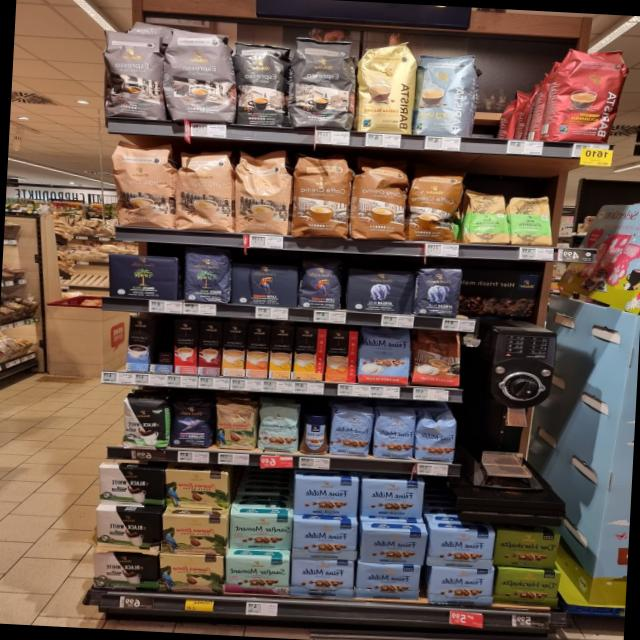AB Bohne: (414, 265, 463, 317)
AB Gemahlen: (346, 270, 416, 314)
Athiopien Gemahlen: (465, 188, 510, 246), (508, 192, 554, 247)
BM Bohne: (106, 252, 180, 300), (181, 250, 231, 304)
BW Bohne: (121, 397, 167, 451)
BW Gemahlen: (96, 465, 166, 508), (91, 548, 159, 592), (94, 508, 162, 551)
Barista CB: (354, 38, 418, 136)
Barista CC: (413, 50, 480, 138)
Barista Kolumbien: (546, 41, 632, 146)
C Fino Bohne: (168, 397, 214, 449)
CC Mild: (108, 138, 176, 228), (172, 145, 235, 233), (234, 147, 294, 236)
CC Vollmundig: (411, 329, 463, 387)
CC Vollmundig 36 Pads: (290, 152, 352, 240), (351, 156, 412, 242), (406, 163, 468, 244)
Colombia BB Bohne: (214, 402, 258, 451)
Colombia BB Gemahlen: (158, 552, 225, 594), (160, 514, 227, 556), (164, 468, 228, 509)
Empty Shelf: (477, 51, 548, 140), (152, 320, 174, 364)
Espresso Aromatisch: (162, 32, 236, 123), (100, 30, 164, 120)
Espresso Kraftig: (286, 38, 356, 130), (234, 42, 292, 126)
FM 36 Pads: (357, 327, 411, 387)
FM Bohne: (328, 408, 374, 456), (373, 410, 416, 460), (415, 414, 458, 462)
FM Gemahlen: (291, 519, 358, 562), (426, 528, 496, 569), (292, 476, 360, 518), (427, 565, 496, 606), (360, 478, 426, 520), (359, 528, 428, 566), (290, 558, 354, 598), (354, 562, 421, 600)
FM Instant: (299, 412, 330, 456)
Herzhatfe Mundig: (493, 529, 562, 569), (494, 568, 562, 608)
LG Bohne: (298, 258, 344, 310)
LG Gemahlen: (230, 266, 300, 308)
SM Bohne: (257, 404, 300, 453)
SM Gemahlen: (224, 554, 290, 596), (229, 512, 293, 552)
Simo CCMild: (293, 327, 326, 381)
Simo CCMild bigpack: (269, 329, 294, 379)
Simo CCVollmundig: (324, 328, 358, 384)
Simo CCVollmundig bigpack: (245, 326, 270, 378)
Simo Decaff: (222, 324, 246, 376)
Simo Es Brazil: (173, 320, 198, 376)
Simo Es Caramel: (198, 322, 224, 376)
Simo Es Vanilla: (126, 316, 153, 372)
